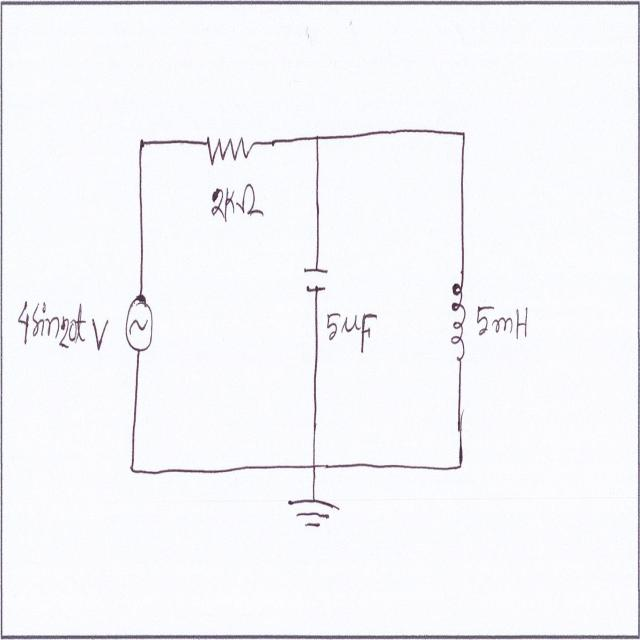ac_current: (124, 288, 155, 354)
capacitor: (302, 261, 330, 302)
ground: (284, 494, 347, 535)
inductor: (448, 268, 468, 360)
resistor: (204, 124, 254, 171)
